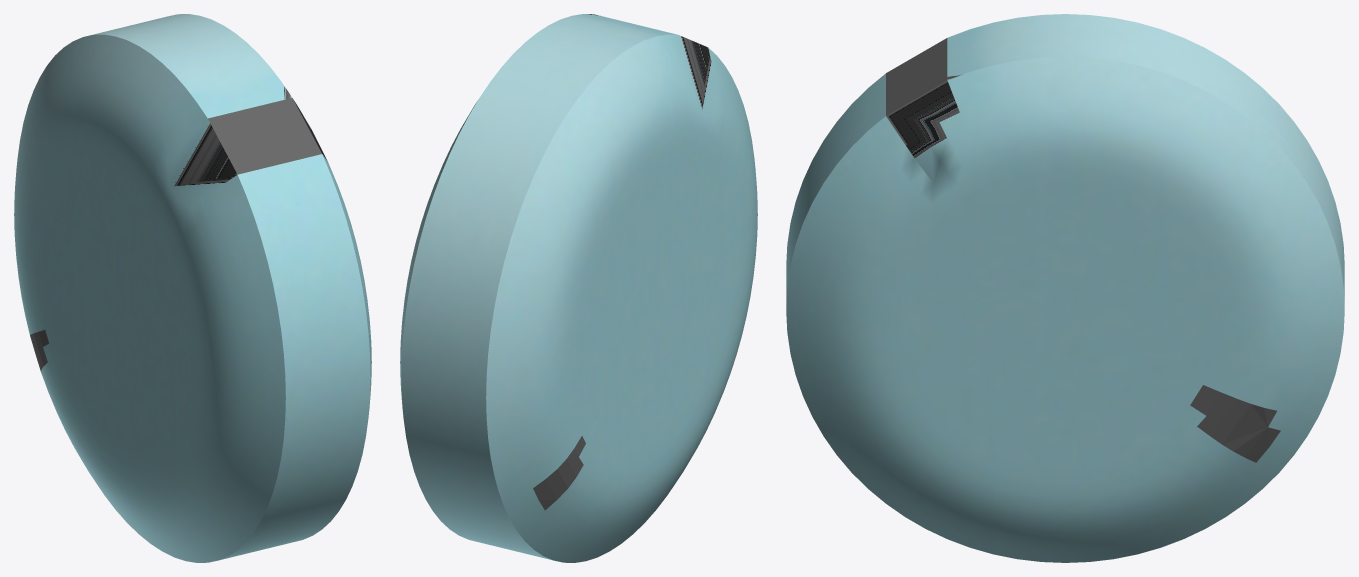
Rendered from rotella.obj.
3 views of the same model, side by side, from view 1: azimuth 30°, elevation 25°; view 2: azimuth 150°, elevation 25°; view 3: azimuth 270°, elevation 25° (orthographic). The views are drawn at different scales.
Visible parts, largest first — view 1: Rotella_10106_Computer_Mouse_v1_L3.001; view 2: Rotella_10106_Computer_Mouse_v1_L3.001; view 3: Rotella_10106_Computer_Mouse_v1_L3.001.
Part boxes in pixels (x1,y1,x2,y2): Rotella_10106_Computer_Mouse_v1_L3.001: [14, 14, 371, 562]; Rotella_10106_Computer_Mouse_v1_L3.001: [400, 14, 757, 562]; Rotella_10106_Computer_Mouse_v1_L3.001: [786, 14, 1344, 562].
Size of the model in its own units: 0.1861 by 0.5778 by 0.5778.
